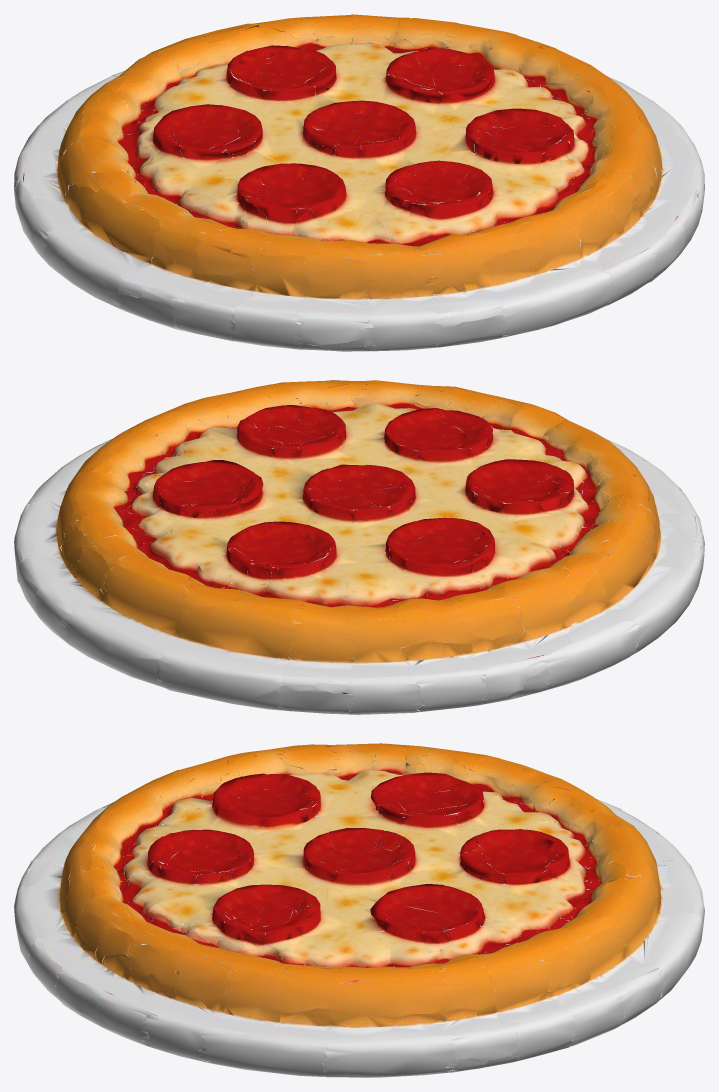
Rendered from pizza.glb.
3 views of the same model, one above another, from view 1: azimuth 30°, elevation 25°; view 2: azimuth 150°, elevation 25°; view 3: azimuth 270°, elevation 25° (orthographic).
Parts seen in each view (by area): view 1: Mesh_0; view 2: Mesh_0; view 3: Mesh_0.
Part boxes in pixels (x1,y1,x2,y2): Mesh_0: (14, 14, 704, 351); Mesh_0: (14, 380, 704, 714); Mesh_0: (14, 743, 704, 1077).
Size of the model in its own units: 0.9999 by 0.1395 by 1.
Materials: 1 (1 with a texture image).
